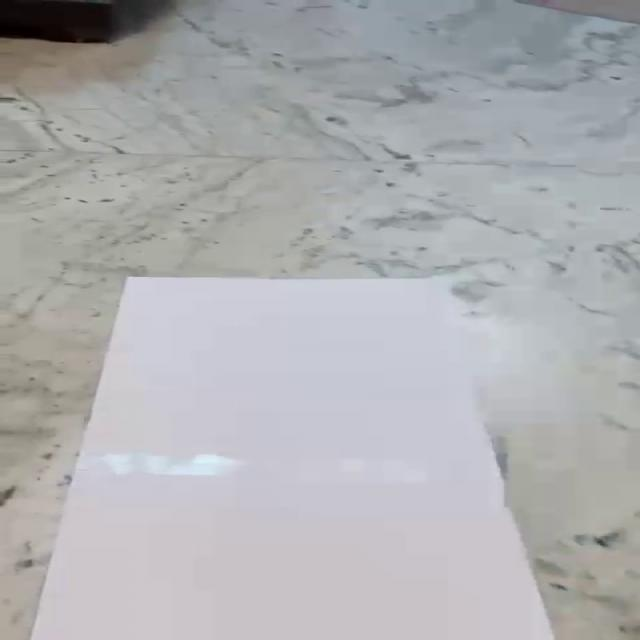road: (28, 278, 556, 640)
